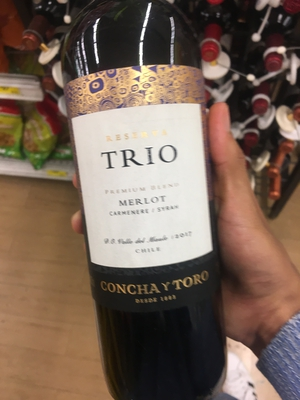trio merlot: (63, 23, 233, 373)
